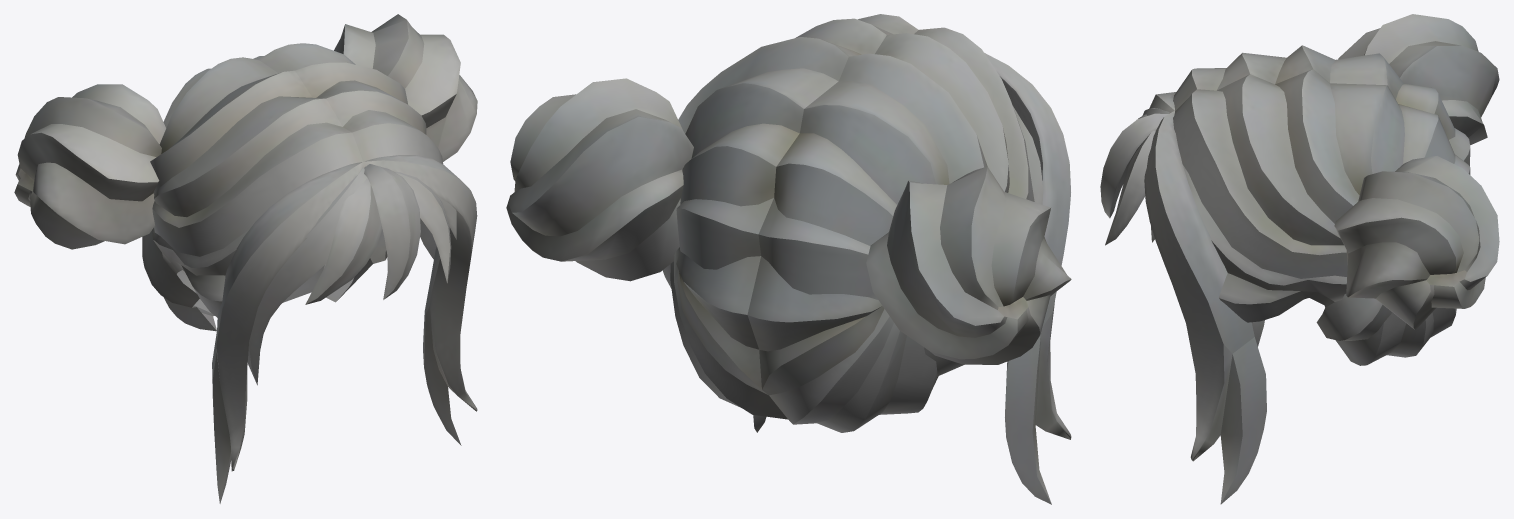
The model's file is cheveux_buns.glb.
3 renders of one model, left to right at view 1: azimuth 30°, elevation 25°; view 2: azimuth 150°, elevation 25°; view 3: azimuth 270°, elevation 25°, orthographic. The views are drawn at different scales.
Visible parts, largest first — view 1: Hair_Buns; view 2: Hair_Buns; view 3: Hair_Buns.
Part boxes in pixels (bbox=[...]): Hair_Buns: bbox=[14, 14, 477, 503]; Hair_Buns: bbox=[506, 14, 1071, 504]; Hair_Buns: bbox=[1100, 14, 1499, 504].
Size of the model in its own units: 0.3015 by 0.2491 by 0.2368.
1 material, 1 textured.
